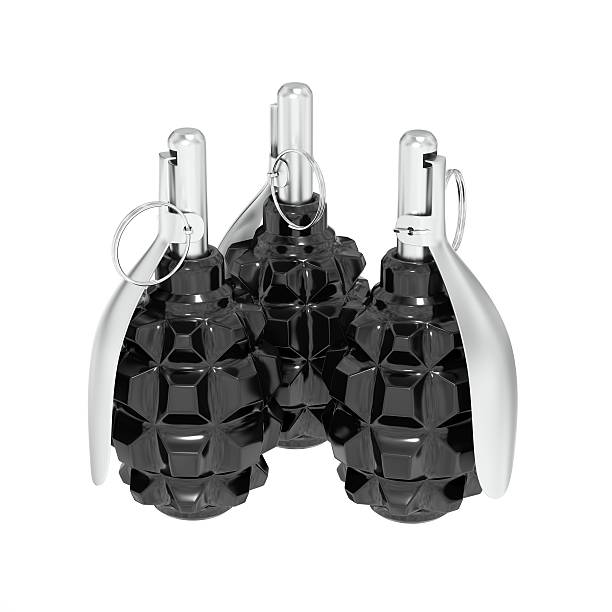e1: (326, 131, 518, 524), (88, 129, 276, 517)
